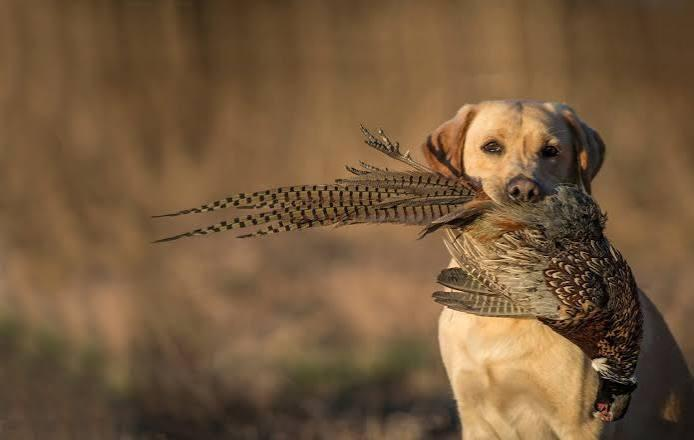adult_dog: (425, 98, 694, 440)
non-dog: (147, 124, 645, 424)
